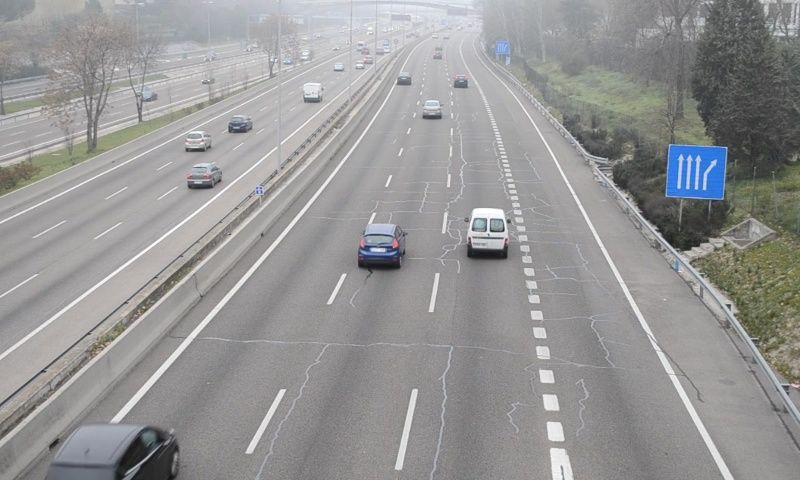car: (46, 422, 178, 480), (358, 224, 405, 268), (422, 100, 442, 119), (396, 70, 412, 86), (452, 74, 468, 89)
van: (466, 208, 509, 256)
